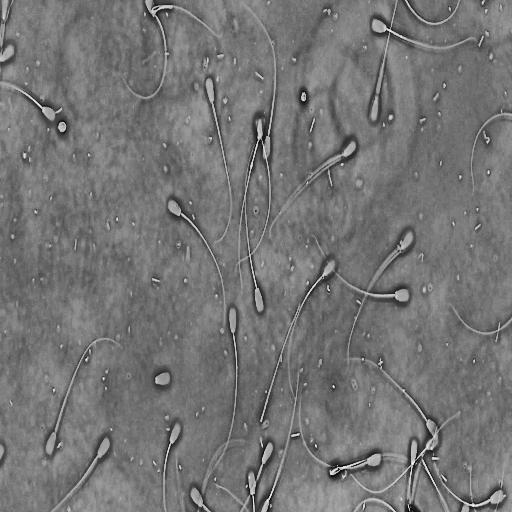dirt-particles: (56, 117, 68, 134)
distal-droplet: (250, 161, 253, 170), (471, 503, 475, 507)
loose-head: (153, 369, 172, 388)
loose-tail: (258, 302, 302, 427), (469, 110, 512, 196), (446, 301, 512, 338), (404, 0, 460, 28)
normal: (43, 334, 130, 460), (333, 352, 444, 447), (268, 137, 359, 249), (346, 226, 415, 370), (164, 195, 229, 340), (195, 301, 243, 486), (308, 230, 413, 306), (287, 257, 337, 406), (237, 0, 280, 162), (432, 416, 506, 509), (298, 391, 382, 472), (234, 116, 272, 277), (236, 113, 267, 297), (328, 445, 428, 497), (366, 12, 486, 54), (204, 75, 233, 247), (48, 436, 112, 512), (243, 139, 268, 320), (369, 0, 400, 127), (0, 81, 57, 124), (161, 421, 181, 512)
